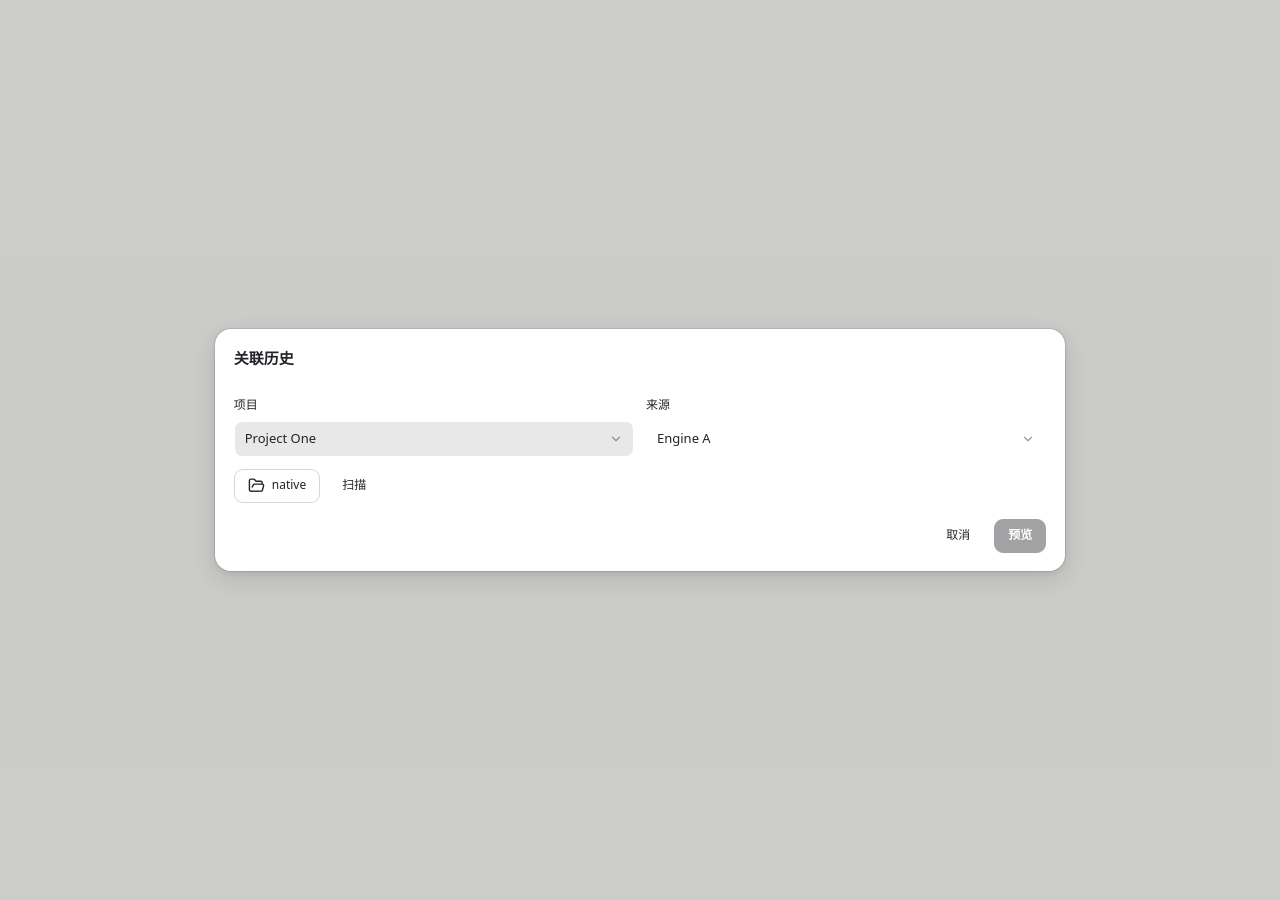
source change fails visibly and does not import; native directory chooser invalidates selection
Click the button "扫描" at [354, 486], box [328,468,380,502]
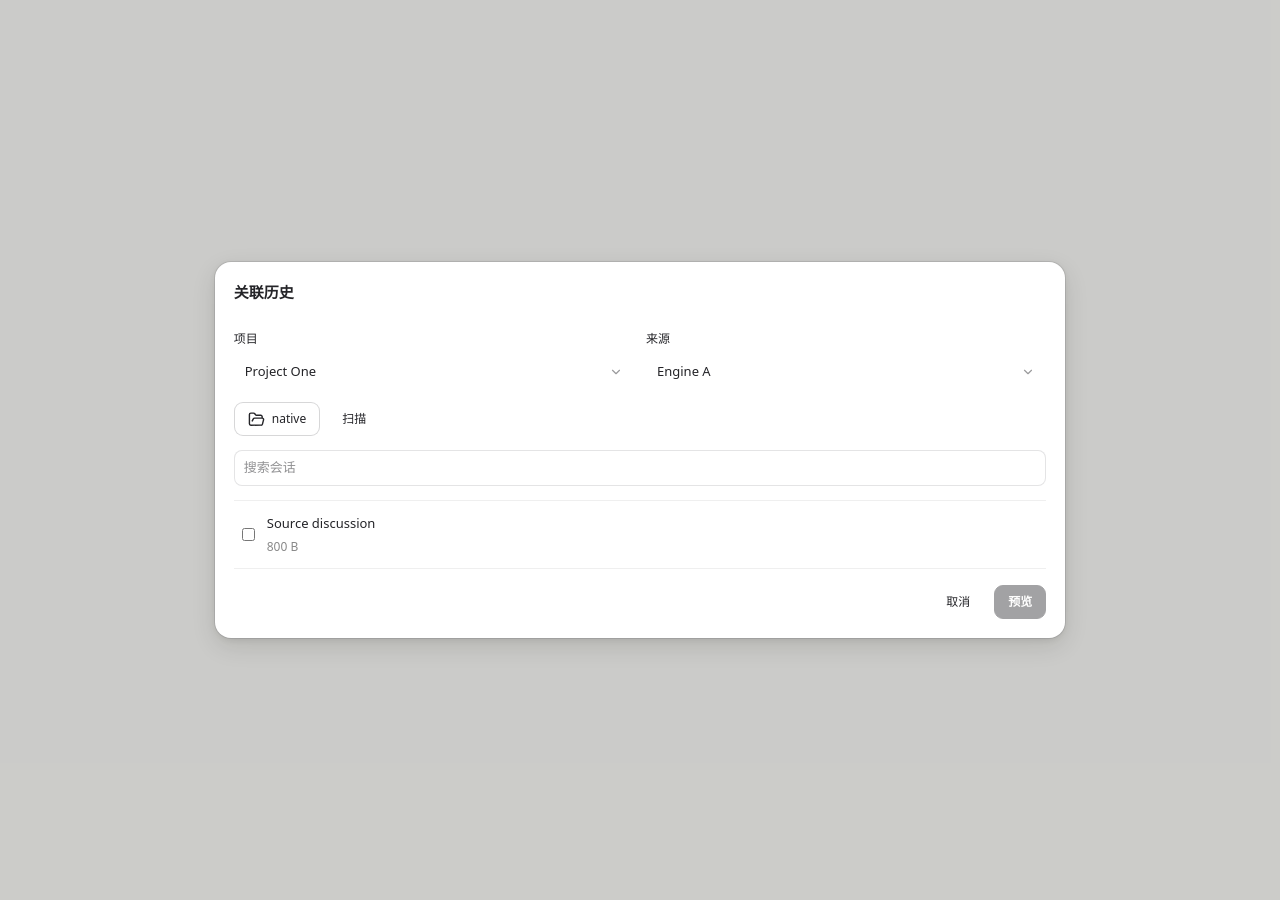
Click the checkbox at [248, 534], box [242,528,255,541]
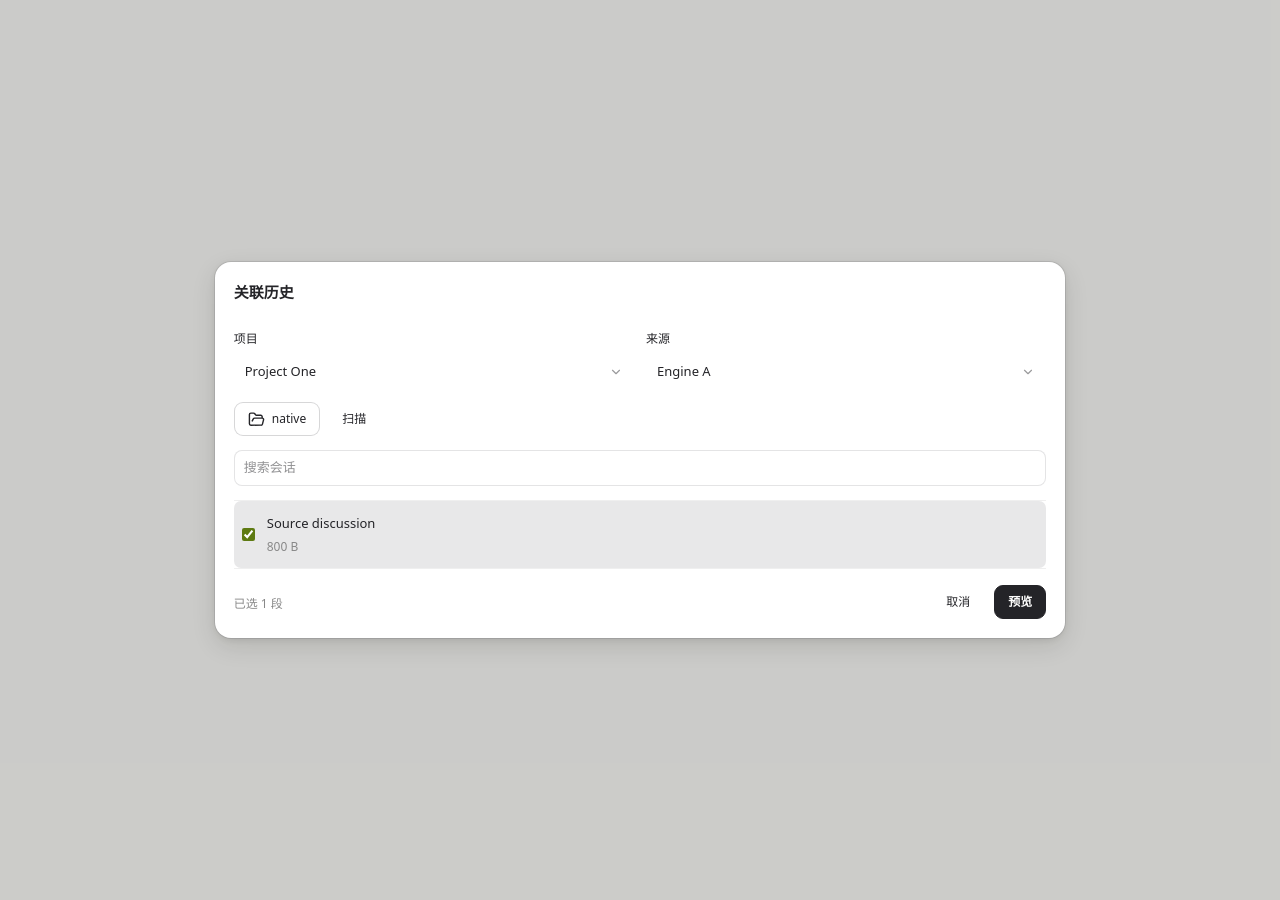
Click the button "预览" at [1020, 602], box [994,585,1046,619]
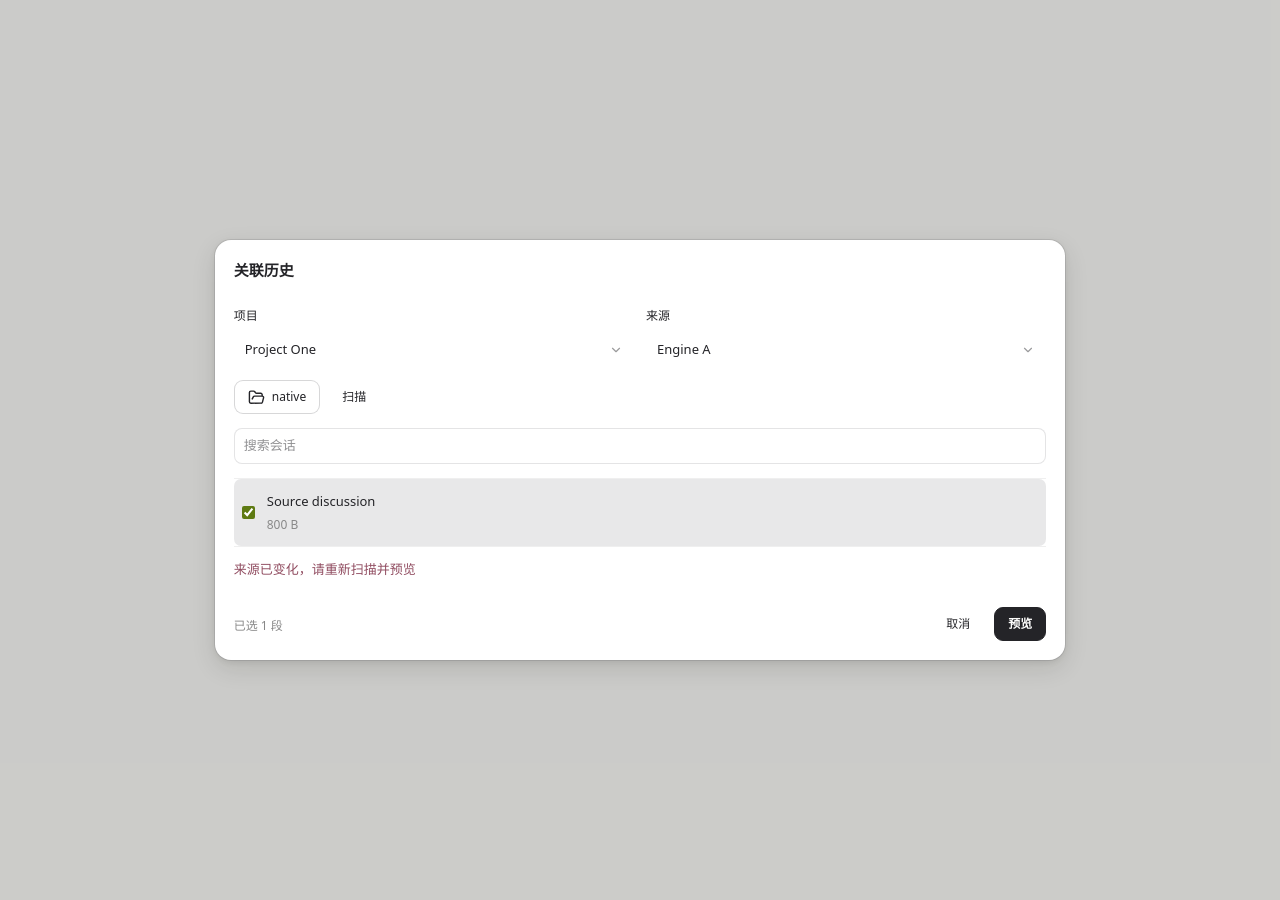
expect the message shows "来源已变化": met, box [234,560,416,578]
Click the button with aria-label "选择目录" at [277, 397], box [234,380,320,414]
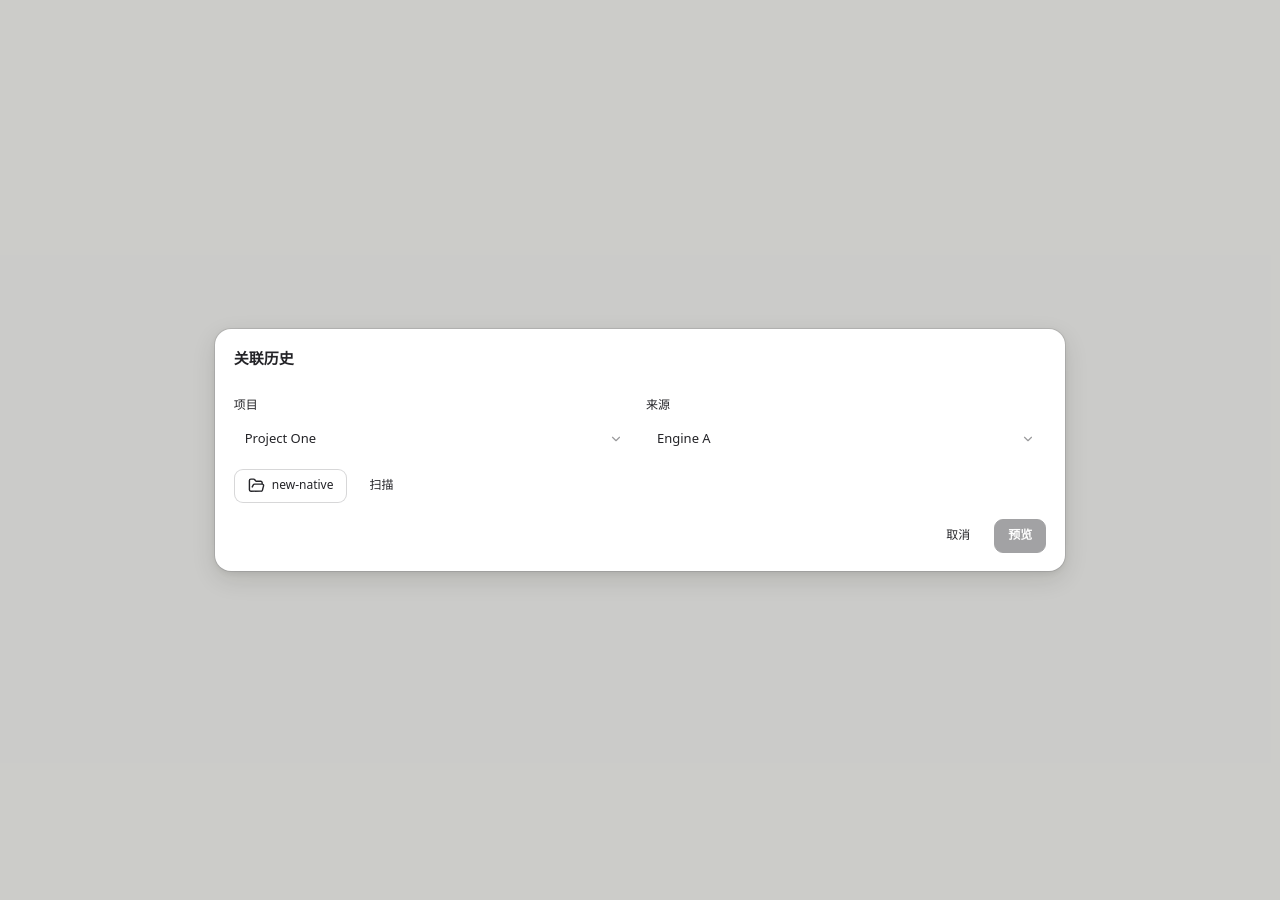
expect the button with aria-label "选择目录" reads "new-native": met, box [234,468,348,502]
expect the checkbox is gone: met
